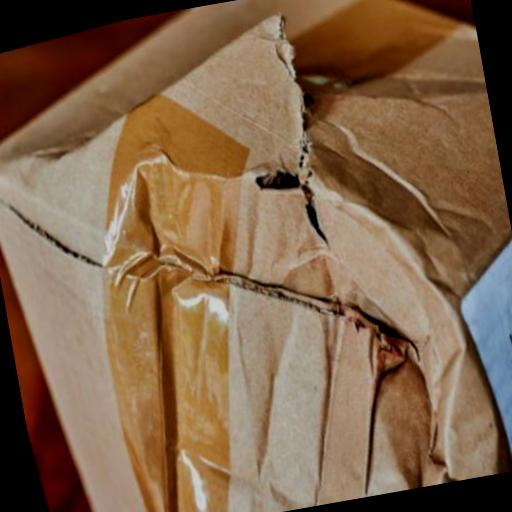torn: (19, 0, 477, 417)
